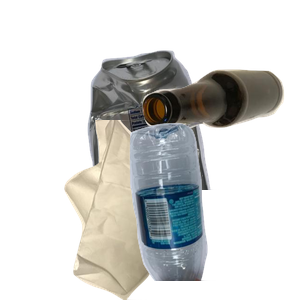glass: (140, 67, 300, 188)
metal: (85, 48, 300, 228)
plastic: (127, 120, 300, 300)
trash: (62, 120, 251, 300)
